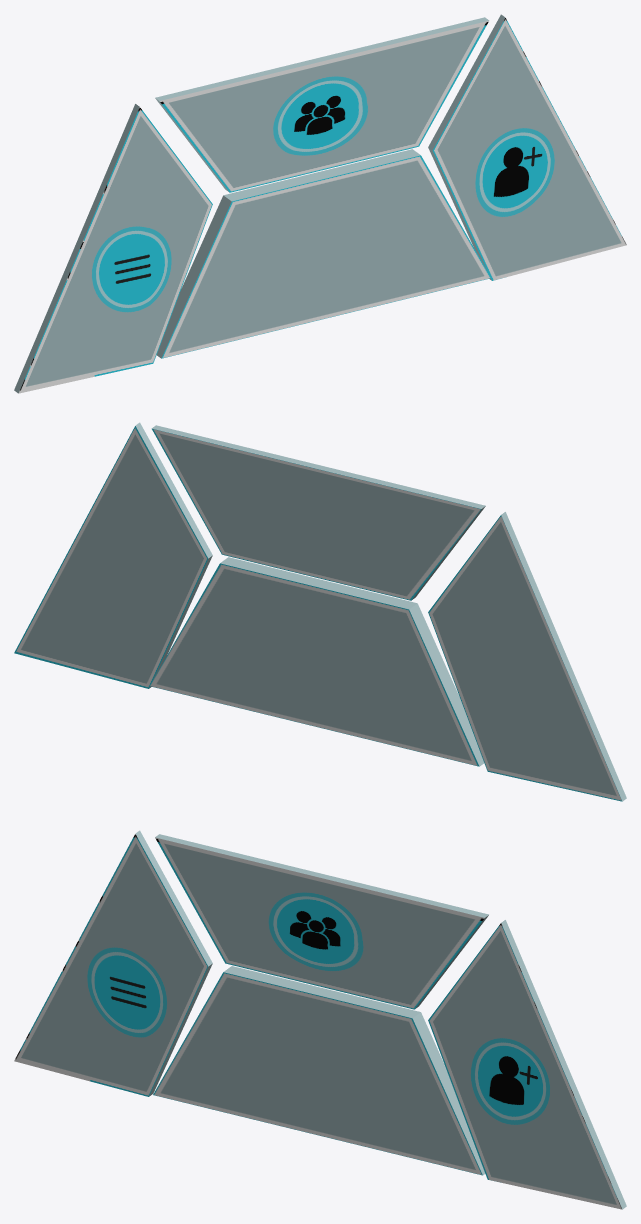
Rendered from 3d Menu 001.FBX.
3 views of the same model, one above another, from view 1: azimuth 30°, elevation 25°; view 2: azimuth 150°, elevation 25°; view 3: azimuth 330°, elevation 25° (orthographic).
Parts seen in each view (by area): view 1: Menu Main, Menu Contacten, Menu Opties, Menu Karakter toevoegen; view 2: Menu Main, Menu Contacten, Menu Opties, Menu Karakter toevoegen; view 3: Menu Main, Menu Contacten, Menu Karakter toevoegen, Menu Opties.
Boxes of the visible parts, x1,y1,x2,y2 form: Menu Main: (156, 149, 490, 358); Menu Contacten: (155, 17, 489, 192); Menu Opties: (14, 104, 212, 393); Menu Karakter toevoegen: (428, 14, 626, 280); Menu Main: (150, 557, 484, 766); Menu Contacten: (151, 425, 485, 600); Menu Opties: (428, 512, 626, 801); Menu Karakter toevoegen: (14, 422, 212, 688); Menu Main: (153, 966, 485, 1175); Menu Contacten: (155, 834, 488, 1009); Menu Karakter toevoegen: (428, 920, 626, 1209); Menu Opties: (14, 830, 212, 1096).
Bounding box in the file's own units: 5.69 × 2.33 × 0.1379.
Materials: 1 (1 with a texture image).
